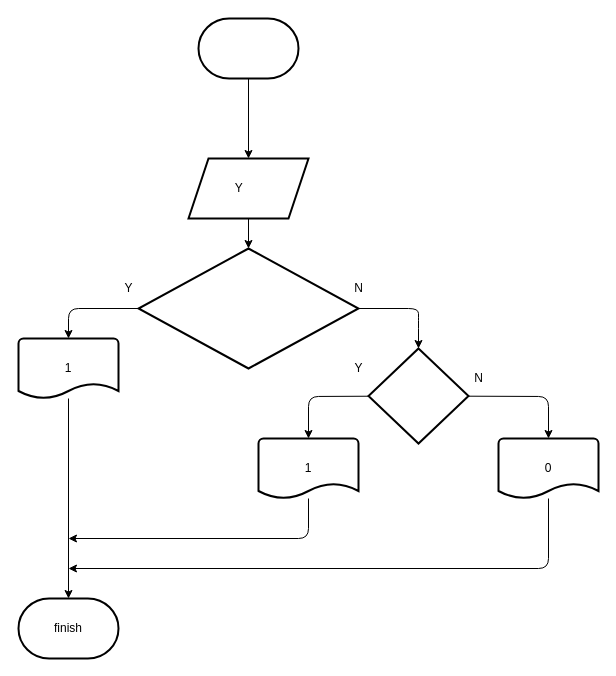
Image size: 616x676. Some labels were removed from this diagram. The shapes that lost their labels are listed below. From the top down, each one's box as (x1, y1, x2, y2) in pixels, then its label:
(197, 17, 299, 79): start
(137, 247, 359, 369): Y % 4 == 0 and not Y % 100 == 0
(367, 347, 469, 444): Y % 400 == 0
